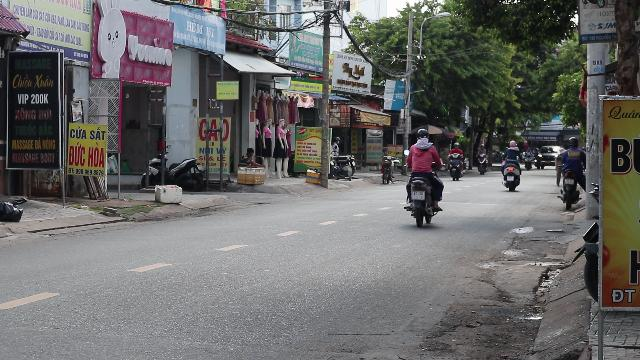helmet: (414, 127, 428, 141)
licenseplate: (412, 190, 424, 199)
motorcyclist: (401, 127, 445, 226)
